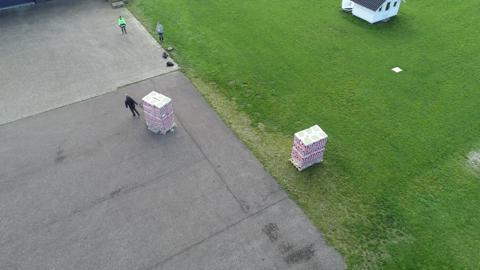RockwoolPallet: (145, 91, 174, 135)
